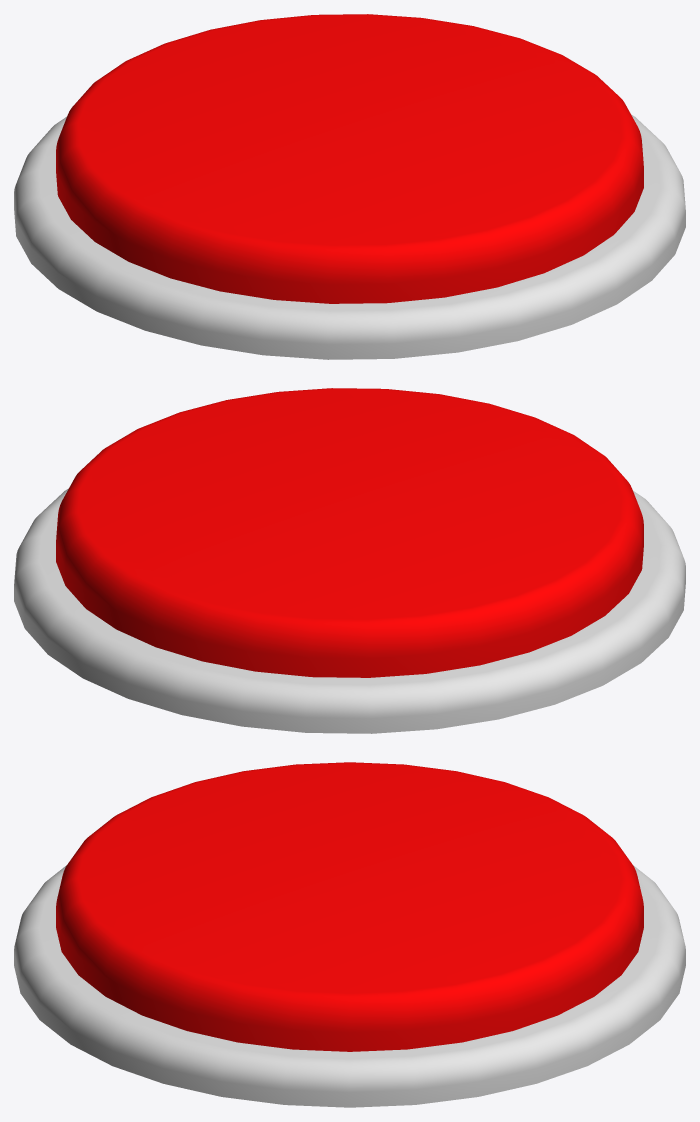
The model's file is redButton.obj.
3 renders of one model, top to bottom at view 1: azimuth 30°, elevation 25°; view 2: azimuth 150°, elevation 25°; view 3: azimuth 270°, elevation 25°, orthographic.
Parts seen in each view (by area): view 1: Default1; view 2: Default1; view 3: Default1.
Boxes of the visible parts, box(x1,y1,x2,y2) form: Default1: box(14, 14, 685, 359); Default1: box(14, 388, 685, 733); Default1: box(14, 762, 685, 1107).
Bounding box in the file's own units: 4 × 0.5727 × 4.
Materials: 1 (1 with a texture image).
